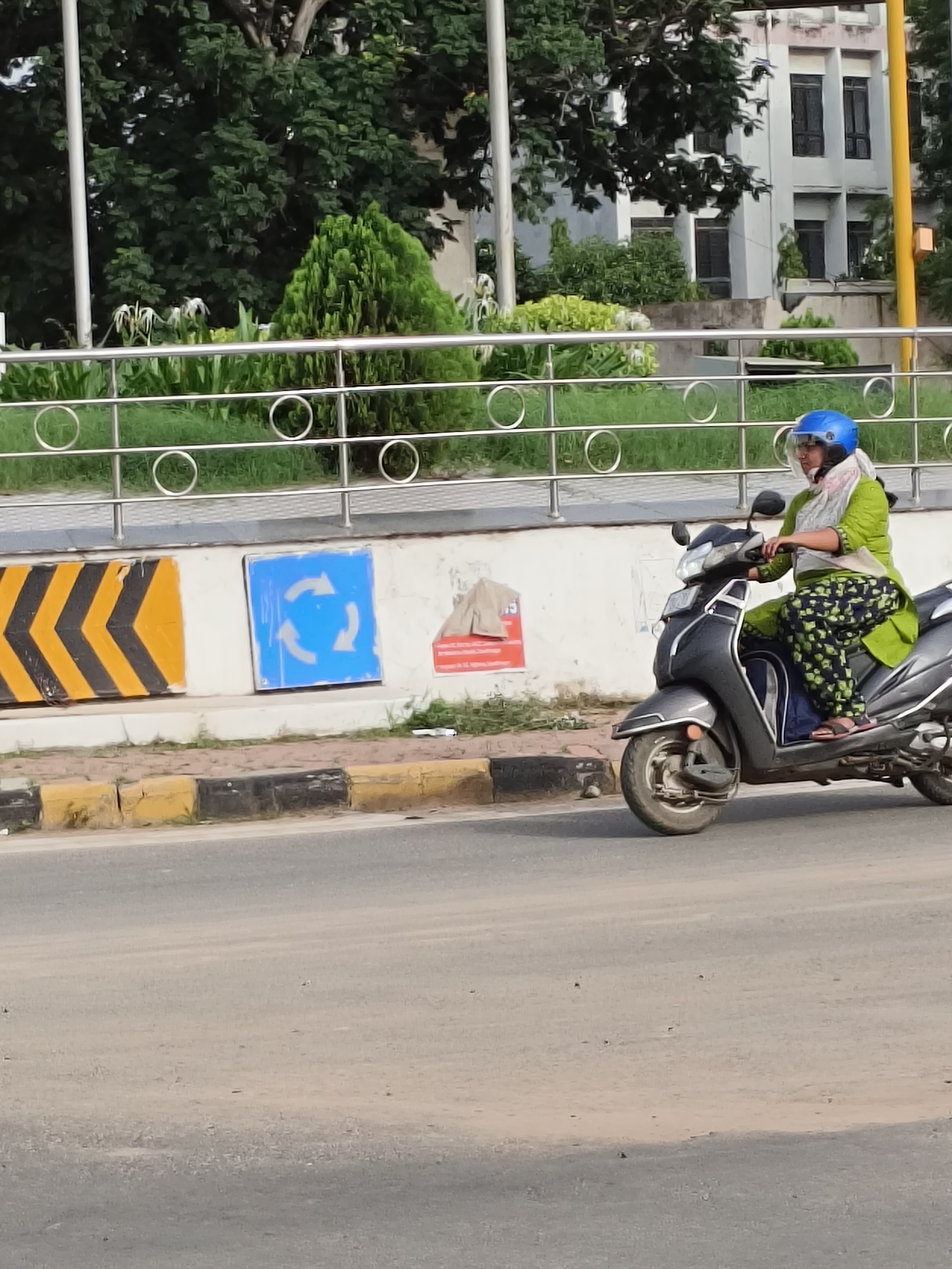BikeWithRider: (568, 383, 952, 859)
Helmet: (780, 405, 871, 493)
